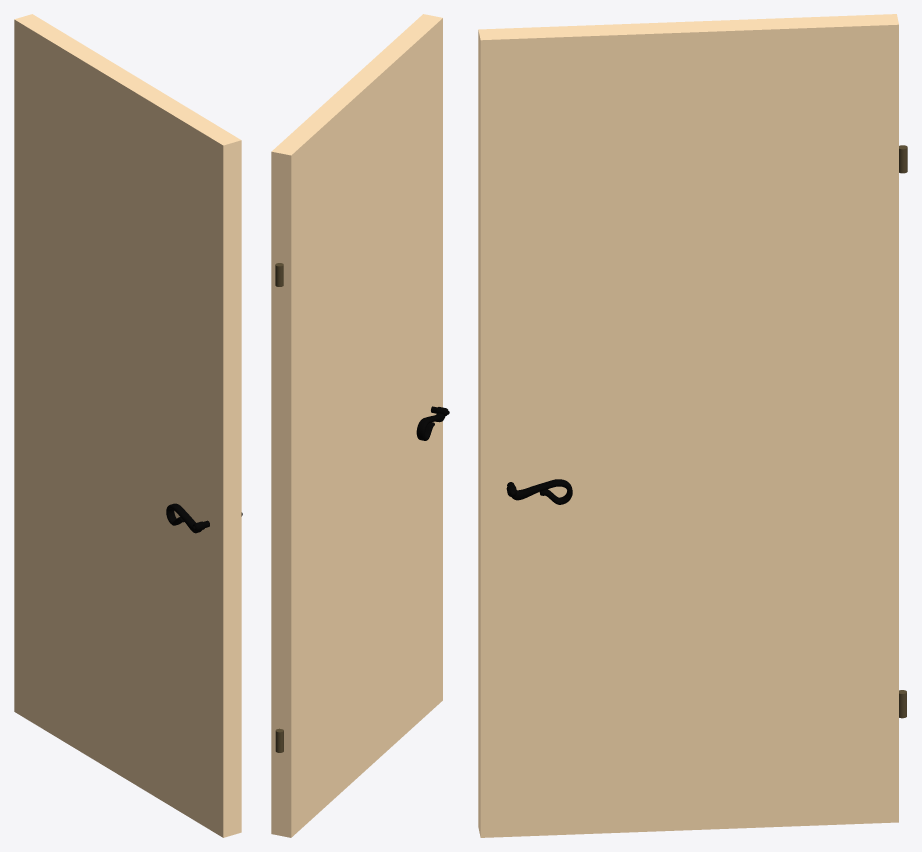
The model's file is doorClose.fbx.
3 views of the same model, side by side, from view 1: azimuth 30°, elevation 25°; view 2: azimuth 150°, elevation 25°; view 3: azimuth 270°, elevation 25° (orthographic). The views are drawn at different scales.
Visible parts, largest first — view 1: Cube, Doorhandle; view 2: Cube, Doorhandle; view 3: Cube, Doorhandle.
Boxes of the visible parts, bbox=[...] form: Cube: bbox=[14, 14, 241, 837]; Doorhandle: bbox=[166, 503, 242, 533]; Cube: bbox=[271, 14, 442, 837]; Doorhandle: bbox=[416, 406, 449, 440]; Cube: bbox=[478, 14, 898, 837]; Doorhandle: bbox=[506, 479, 572, 504].
Bounding box in the file's own units: 17.37 × 188 × 91.48.
